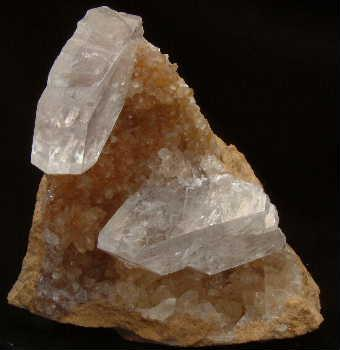gypsum: (98, 156, 287, 276), (31, 7, 144, 175)
